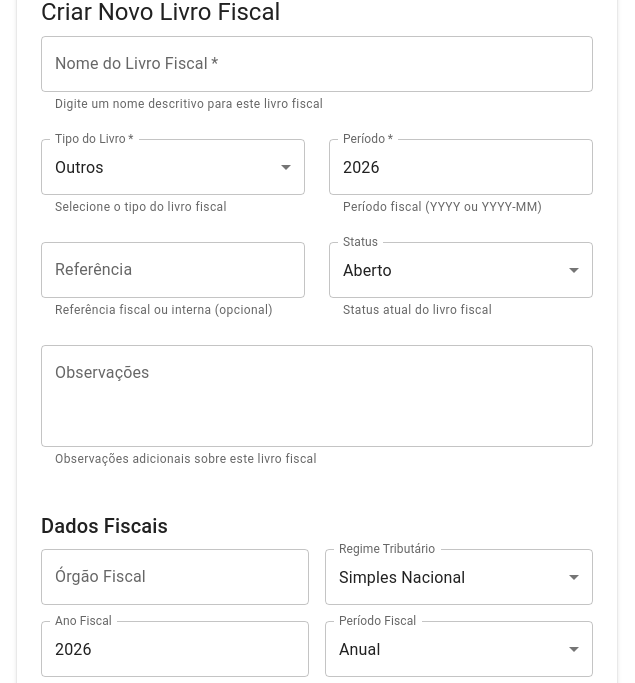
FiscalBookForm › clears submit error when fiscal data changes
In the field with placeholder "ex: Livro de Entrada 2024": (317, 64) top-left (41, 36), bottom-right (593, 92), type "Livro 2024"
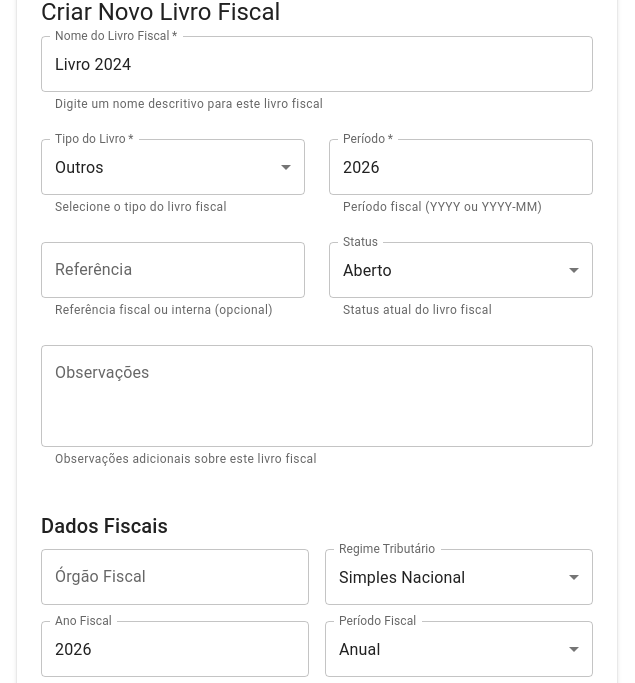
Replace the text in the field with placeholder "2024" with "2024": (461, 167) top-left (329, 139), bottom-right (593, 195)
(page scrolled)
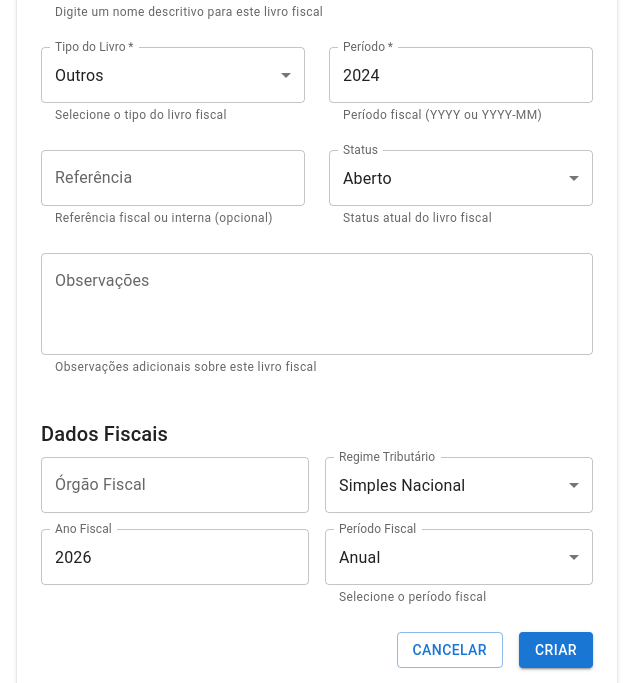
Click the button "Criar": click(556, 650) top-left (519, 632), bottom-right (593, 668)
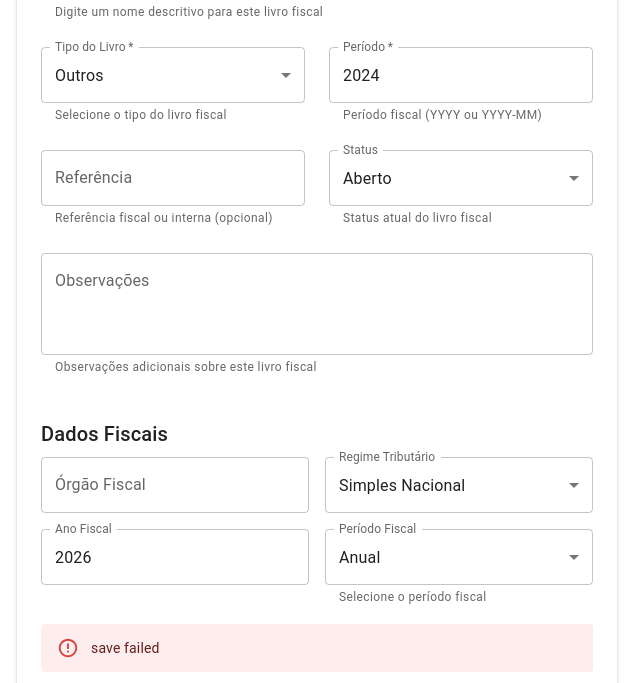
Check: the text "save failed" is shown, box top-left (91, 640), bottom-right (160, 656)
In the field labelled "Órgão Fiscal": (175, 485) top-left (41, 457), bottom-right (309, 513), type "Something"
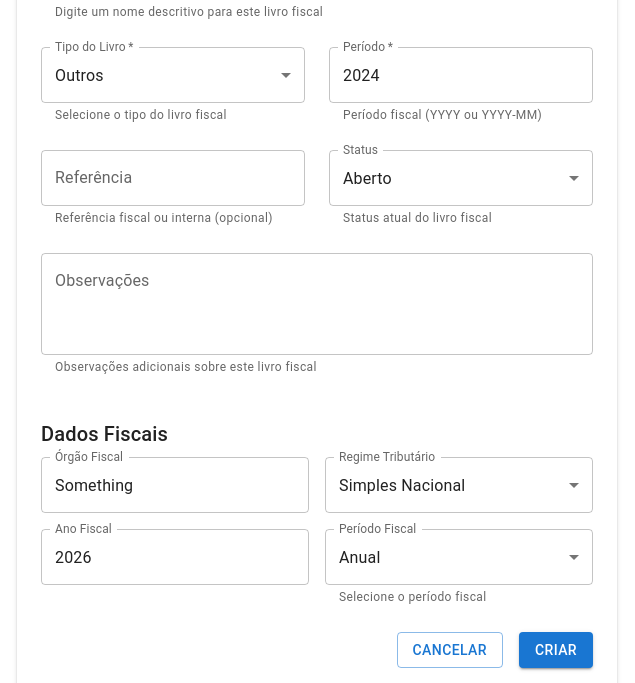
Check: the text "save failed" is gone
